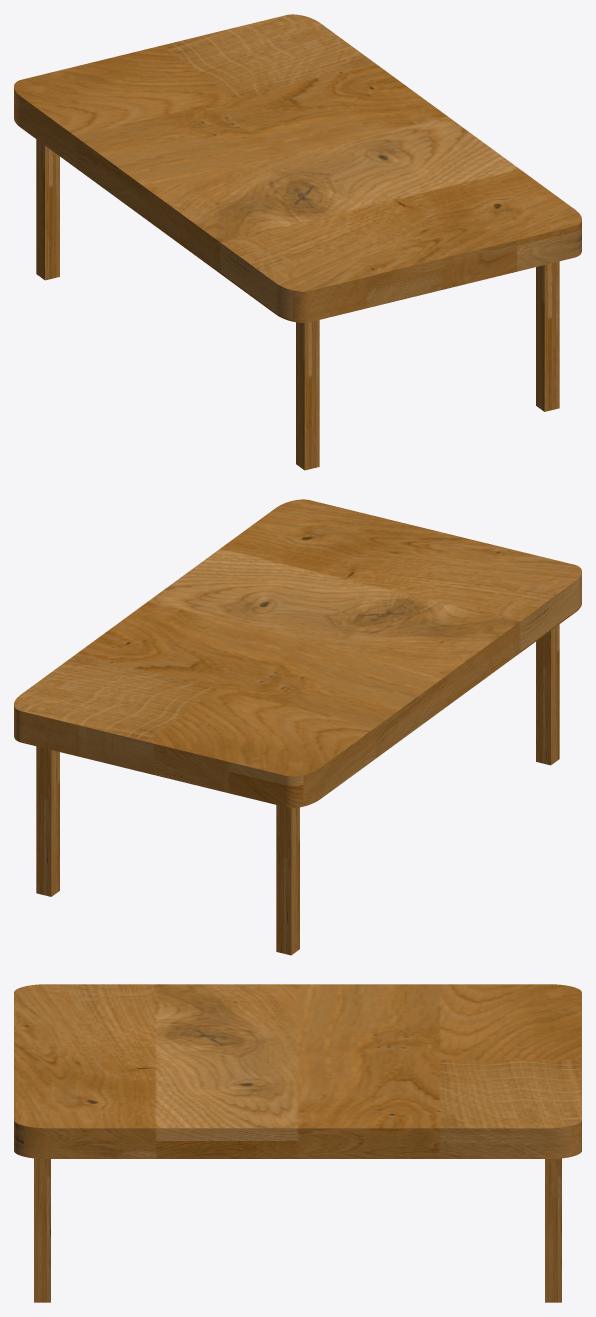
Rendered from table.fbx.
The picture shows the model from 3 angles, top to bottom: view 1: azimuth 30°, elevation 25°; view 2: azimuth 150°, elevation 25°; view 3: azimuth 270°, elevation 25°; orthographic projection.
Parts seen in each view (by area): view 1: Table; view 2: Table; view 3: Table.
Part boxes in pixels (bbox=[...]): Table: bbox=[14, 14, 581, 470]; Table: bbox=[14, 499, 581, 955]; Table: bbox=[14, 984, 581, 1302].
Bounding box in the file's own units: 300 × 180 × 500.
Materials: 1 (1 with a texture image).
